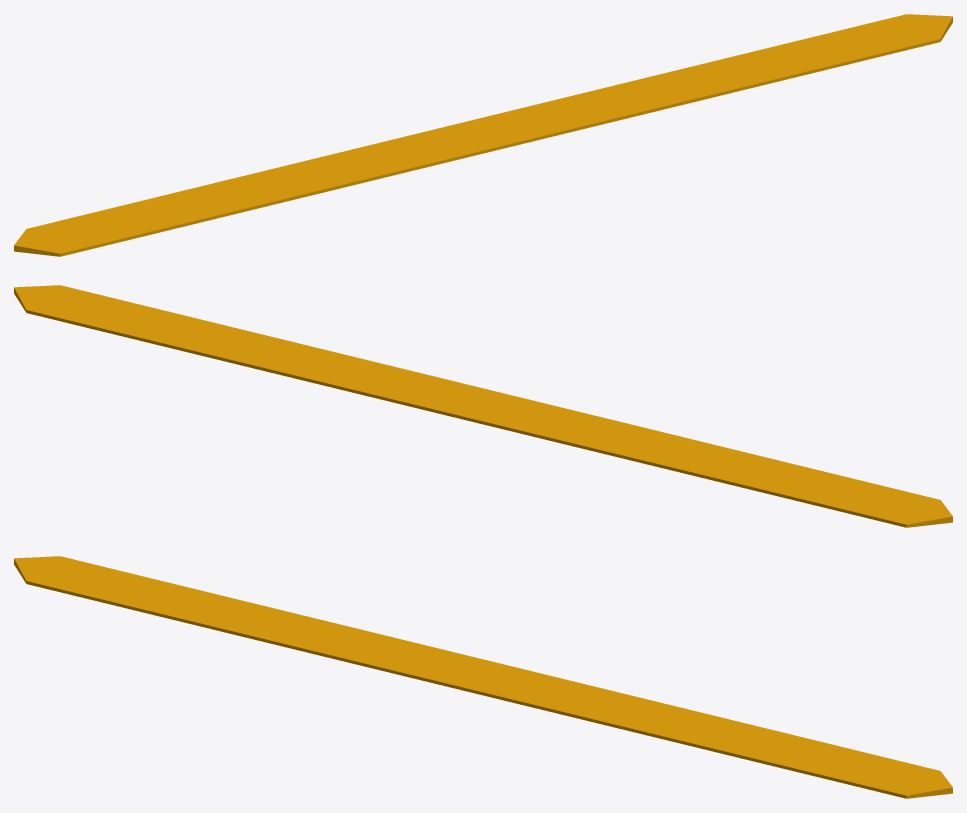
Rendered from Brightnote.glb.
3 renders of one model, top to bottom at view 1: azimuth 30°, elevation 25°; view 2: azimuth 150°, elevation 25°; view 3: azimuth 330°, elevation 25°, orthographic.
Visible parts, largest first — view 1: Cube; view 2: Cube; view 3: Cube.
Boxes of the visible parts, left/top/right/bottom form: Cube: left=14, top=14, right=952, bottom=256; Cube: left=14, top=285, right=952, bottom=527; Cube: left=14, top=556, right=952, bottom=798.
Size of the model in its own units: 16 by 0.1 by 1.
1 material, 1 textured.
